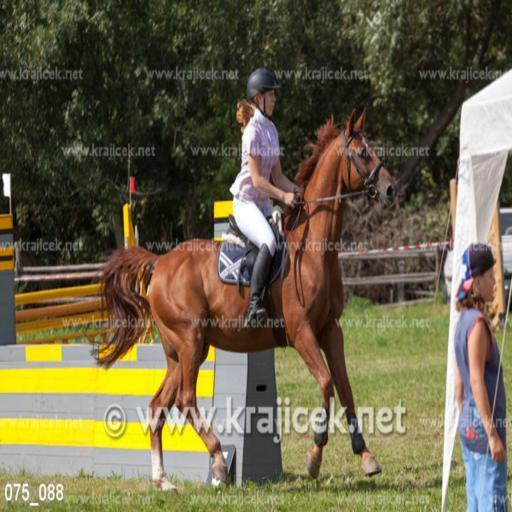horse: (90, 110, 398, 497)
